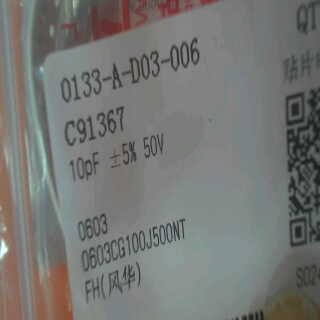10pF: (60, 151, 104, 183)
